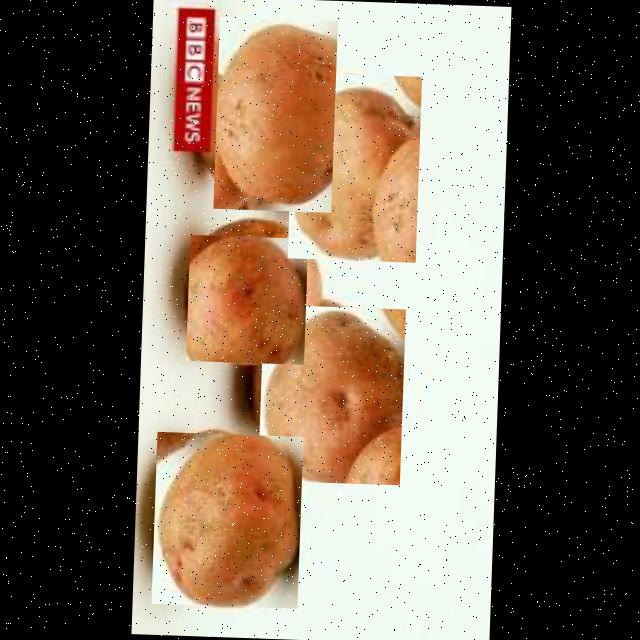Defected potato: (256, 304, 404, 485), (150, 432, 302, 608), (286, 72, 421, 262), (212, 16, 336, 212), (185, 234, 306, 364)
